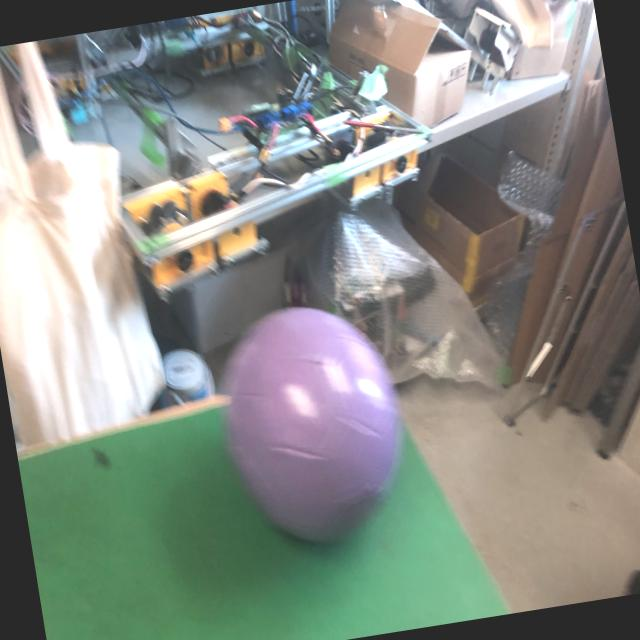purple_ball: (206, 296, 417, 558)
